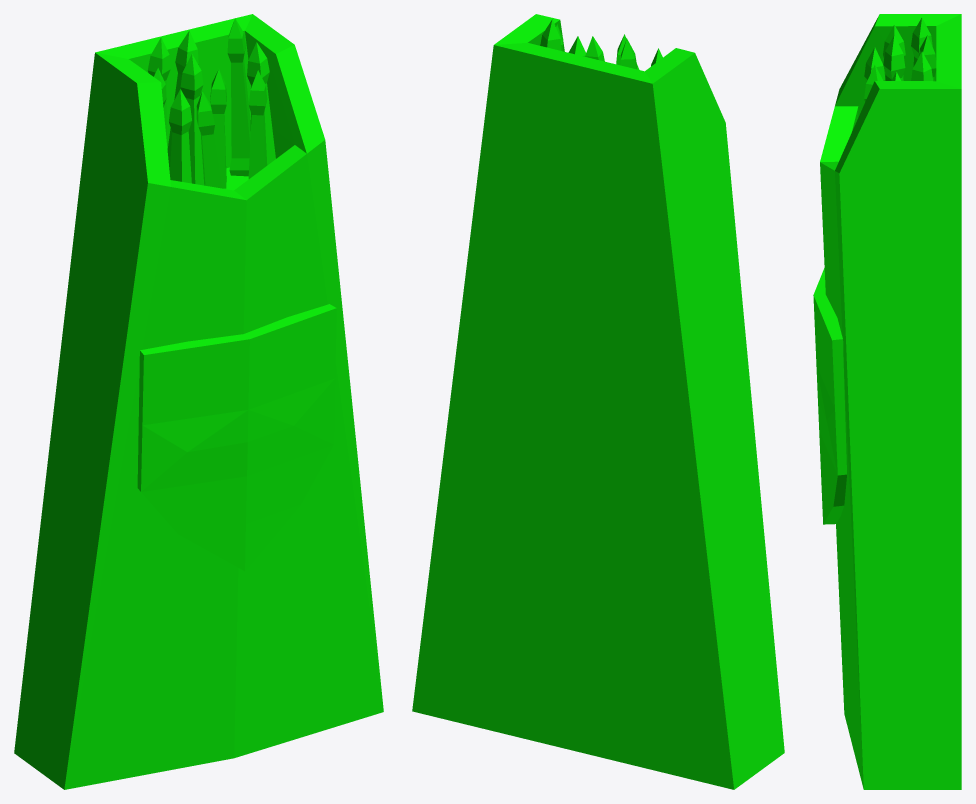
Rendered from SM_Quiver_Bolt_Full_A_Fantasy.fbx.
3 renders of one model, left to right at view 1: azimuth 30°, elevation 25°; view 2: azimuth 150°, elevation 25°; view 3: azimuth 270°, elevation 25°, orthographic. The views are drawn at different scales.
Parts seen in each view (by area): view 1: quiver-bolt-full-a-fantasy; view 2: quiver-bolt-full-a-fantasy; view 3: quiver-bolt-full-a-fantasy.
Part boxes in pixels (box(x1,y1,x2,y2)): quiver-bolt-full-a-fantasy: box(14, 14, 383, 789); quiver-bolt-full-a-fantasy: box(412, 14, 784, 789); quiver-bolt-full-a-fantasy: box(813, 14, 961, 789).
Bounding box in the file's own units: 0.148 × 0.3104 × 0.061.
